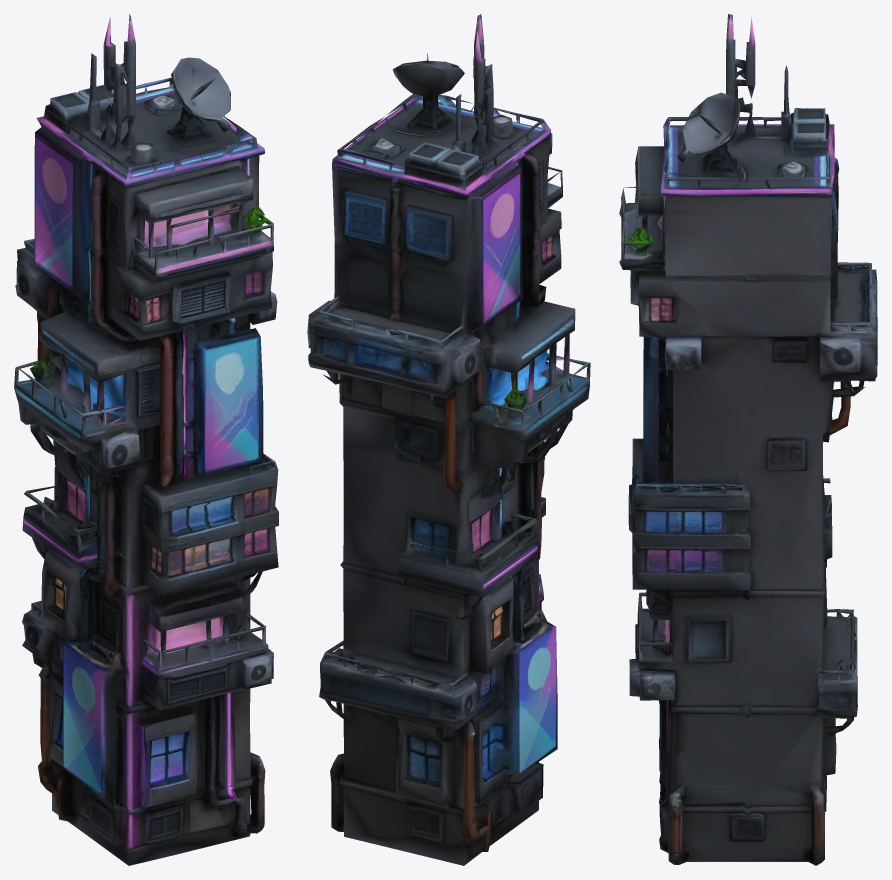
The model's file is cyber-tower.glb.
3 views of the same model, side by side, from view 1: azimuth 30°, elevation 25°; view 2: azimuth 150°, elevation 25°; view 3: azimuth 270°, elevation 25° (orthographic). The views are drawn at different scales.
Parts seen in each view (by area): view 1: cyber-tower; view 2: cyber-tower; view 3: cyber-tower.
Boxes of the visible parts, x1=… form: cyber-tower: x1=14, y1=14, x2=278, y2=865; cyber-tower: x1=307, y1=14, x2=590, y2=865; cyber-tower: x1=619, y1=14, x2=877, y2=865.
Size of the model in its own units: 8.95 by 36 by 10.49.
1 material, 1 textured.
